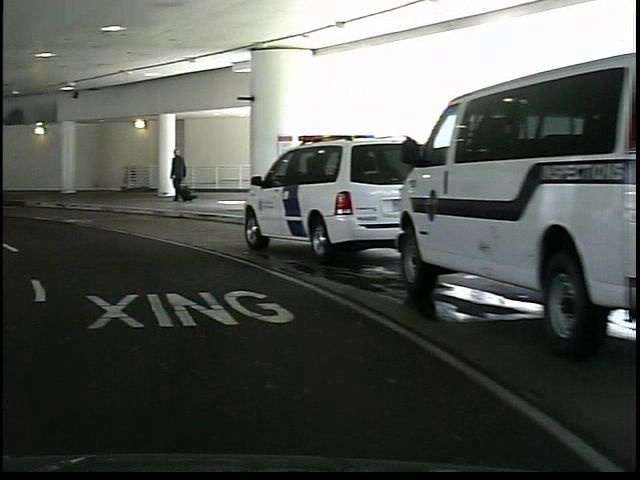person: (163, 146, 187, 205)
